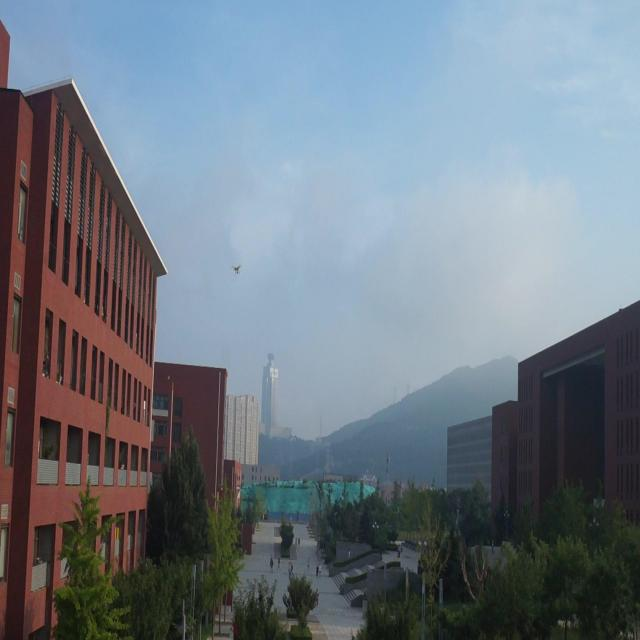UAV: (230, 265, 242, 274)
